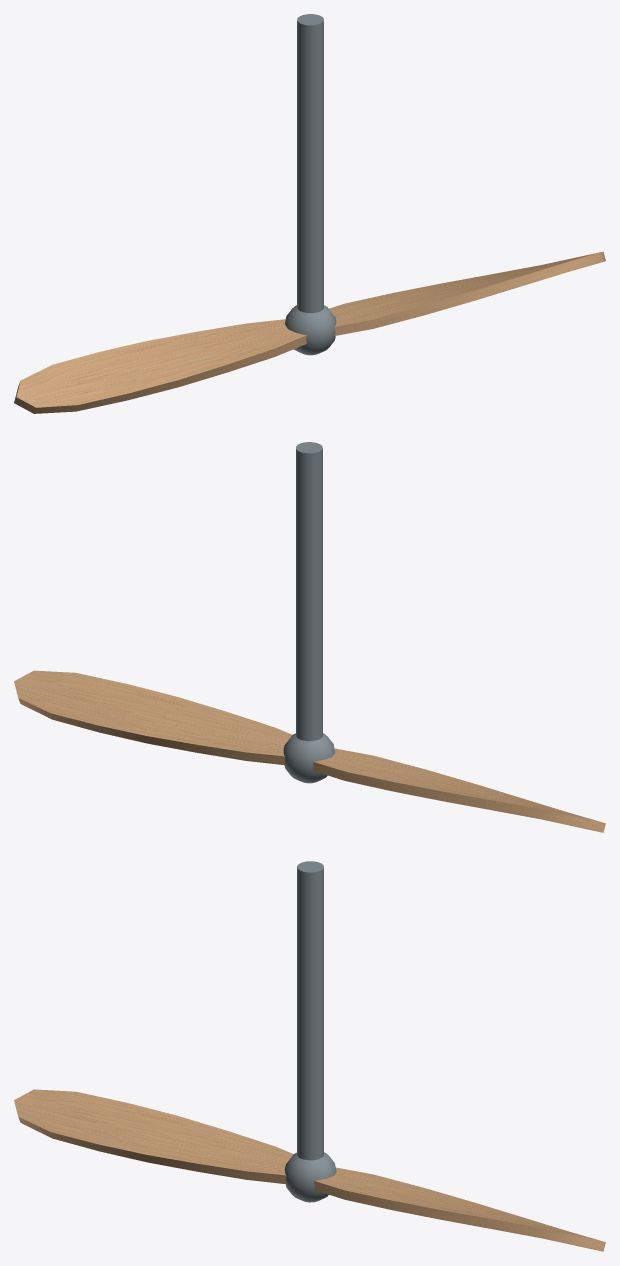
The model's file is Spinning rotors.fbx.
3 renders of one model, top to bottom at view 1: azimuth 30°, elevation 25°; view 2: azimuth 150°, elevation 25°; view 3: azimuth 330°, elevation 25°, orthographic.
Visible parts, largest first — view 1: Spinning_rotors; view 2: Spinning_rotors; view 3: Spinning_rotors.
Part boxes in pixels (x1,y1,x2,y2): Spinning_rotors: (14, 14, 605, 413); Spinning_rotors: (14, 442, 605, 832); Spinning_rotors: (14, 861, 605, 1251).
Bounding box in the file's own units: 400 × 216 × 39.05.
Materials: 2 (1 with a texture image).
